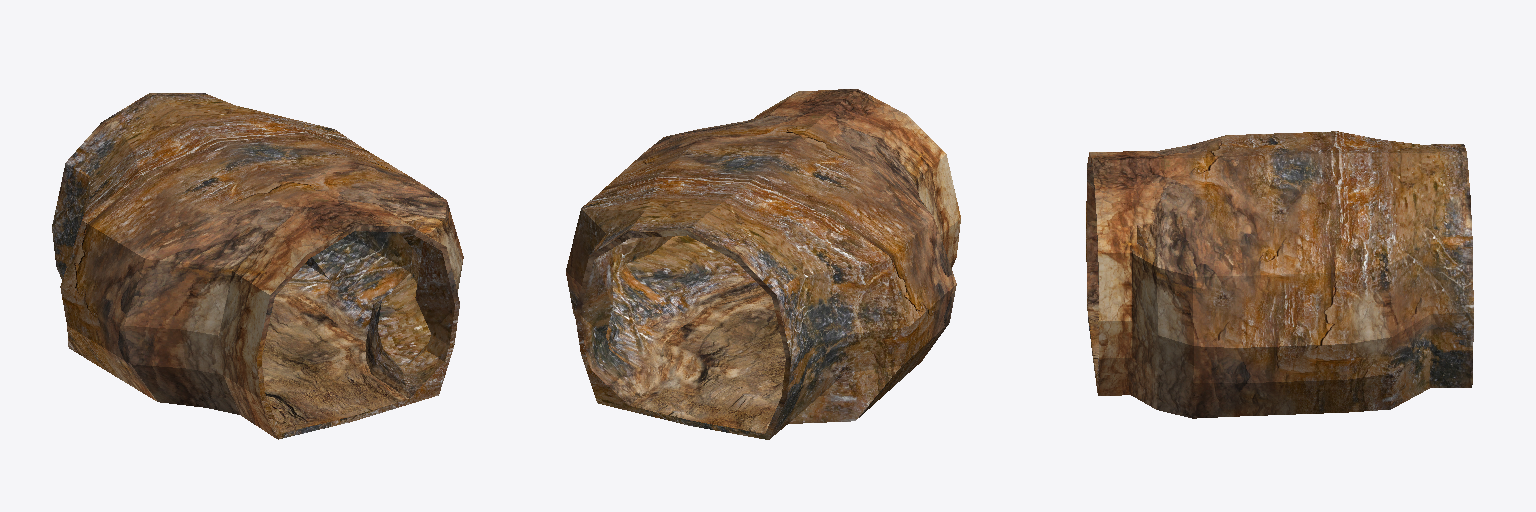
The picture shows the model from 3 angles: view 1: azimuth 30°, elevation 25°; view 2: azimuth 150°, elevation 25°; view 3: azimuth 270°, elevation 25°; orthographic projection.
Visible parts, largest first — view 1: CaveCorridor2; view 2: CaveCorridor2; view 3: CaveCorridor2.
Part boxes in pixels (x1,y1,x2,y2): CaveCorridor2: (52, 93, 463, 439); CaveCorridor2: (566, 89, 960, 439); CaveCorridor2: (1086, 131, 1473, 418).
Bounding box in the file's own units: 164 × 90.67 × 163.
Materials: 1 (1 with a texture image).